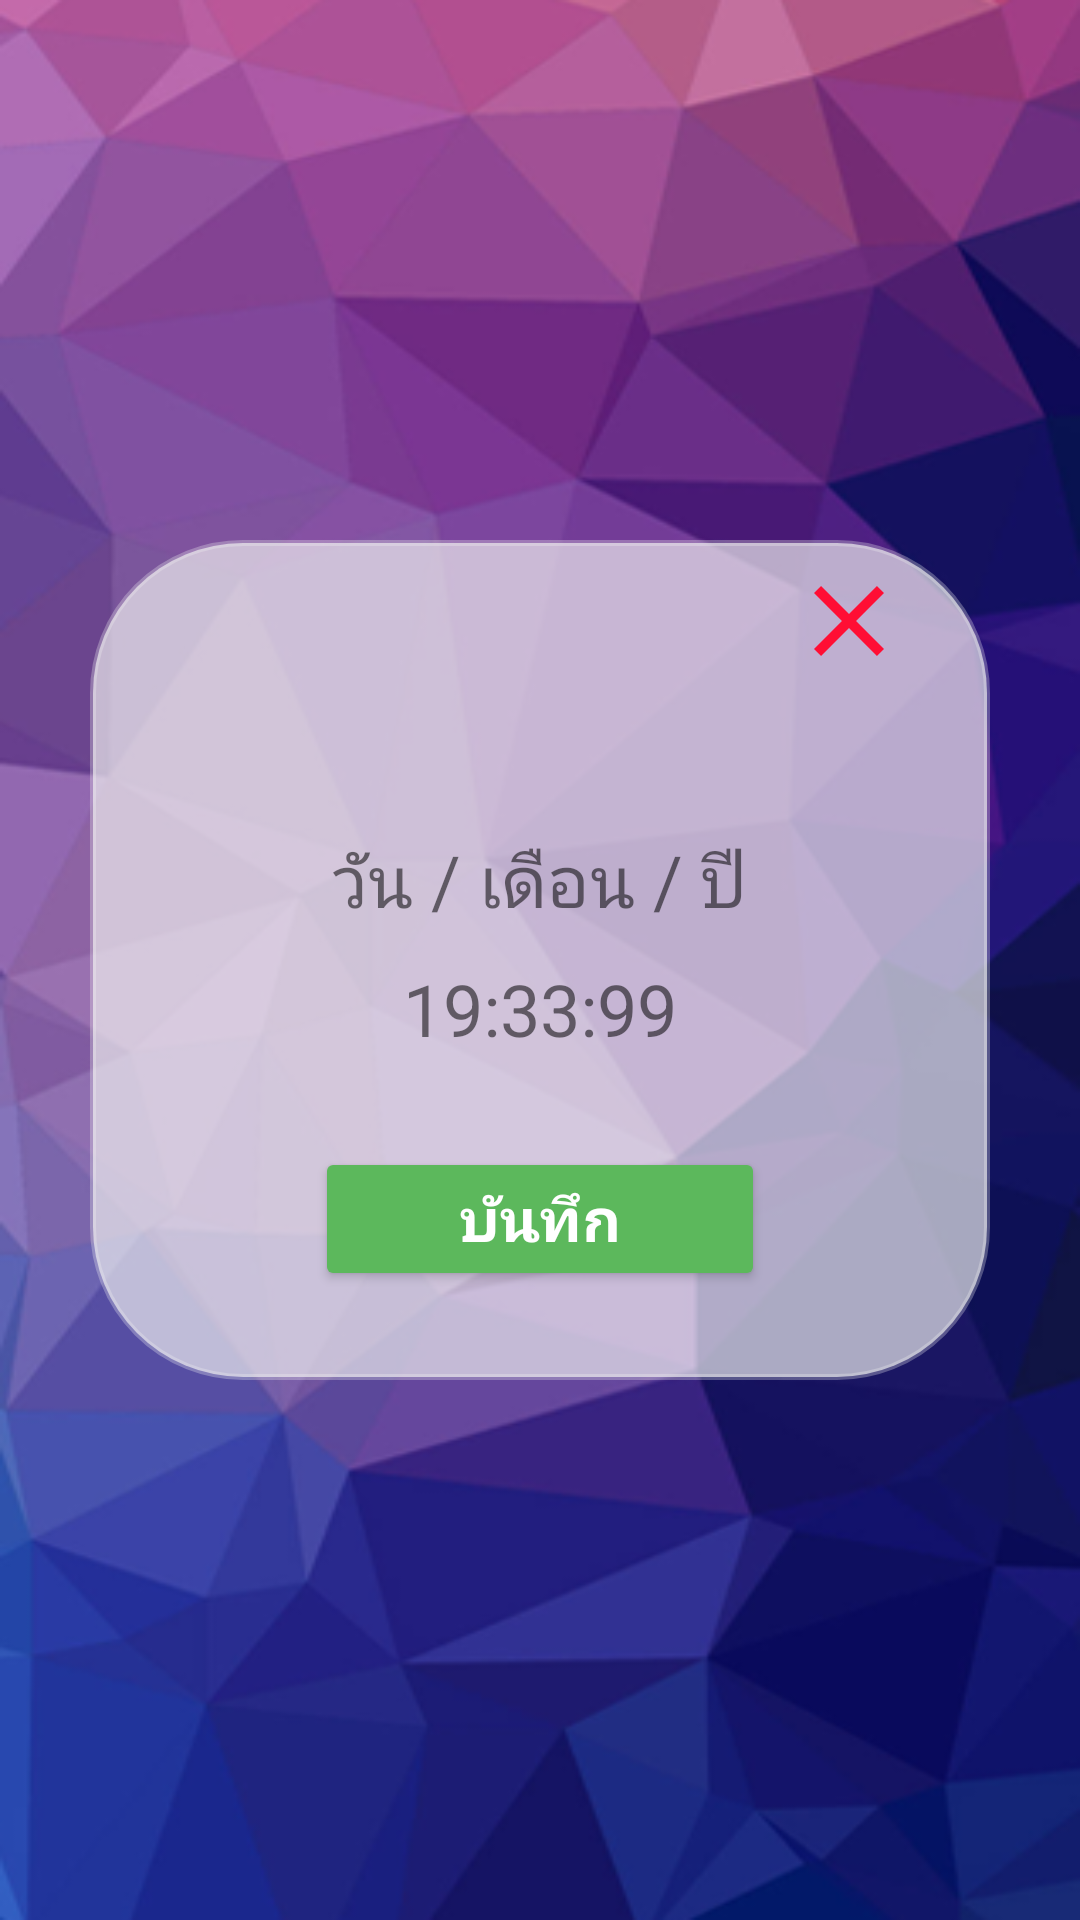

Icon click points for this 1080px x 1920px phone screenshot, format (x=x, y=y):
close: (x=849, y=621)
